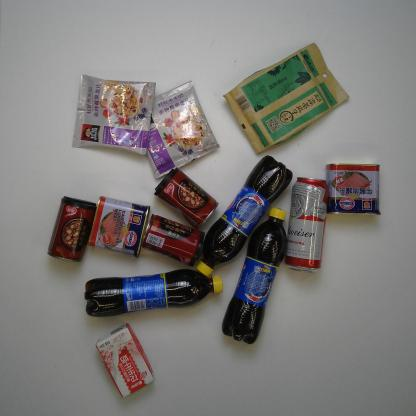Alcohol: (284, 176, 330, 273)
Canned Food: (153, 166, 219, 230), (87, 195, 151, 259), (140, 213, 205, 267), (47, 196, 97, 262), (325, 163, 382, 215)
Dried Food: (222, 42, 350, 155)
Drink: (196, 155, 292, 277), (221, 206, 288, 345), (84, 269, 224, 317)
Instant Drink: (146, 80, 220, 179), (72, 74, 156, 155)
Milk: (95, 323, 155, 398)
